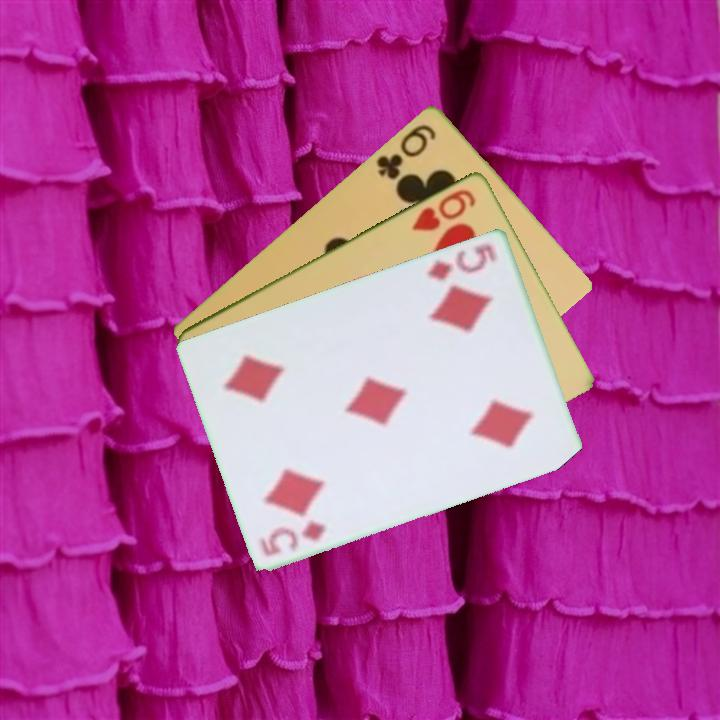5d: (423, 239, 500, 283), (256, 516, 328, 559)
6c: (373, 120, 439, 182)
6h: (408, 185, 479, 234)
